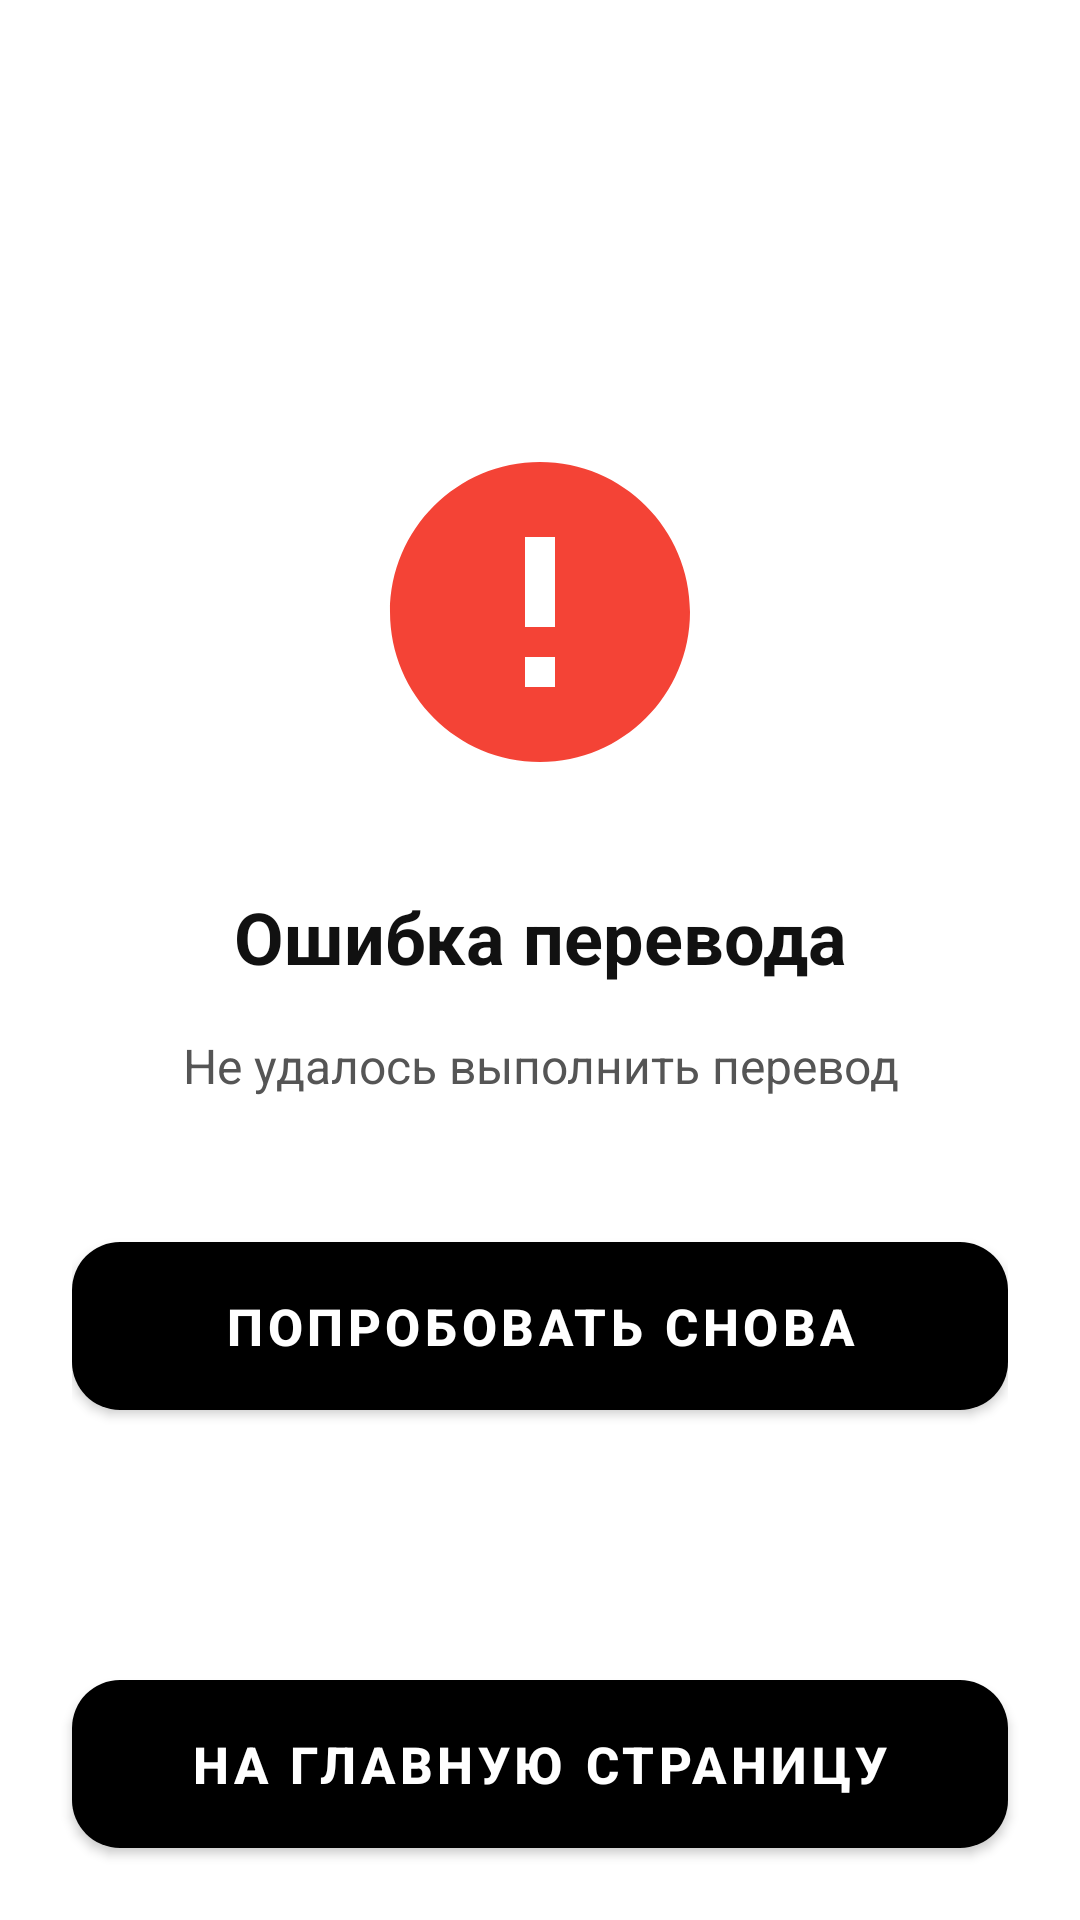

Where to tap for icons on this 1080px×1920px app screen, as (x,y):
error: (540,612)
